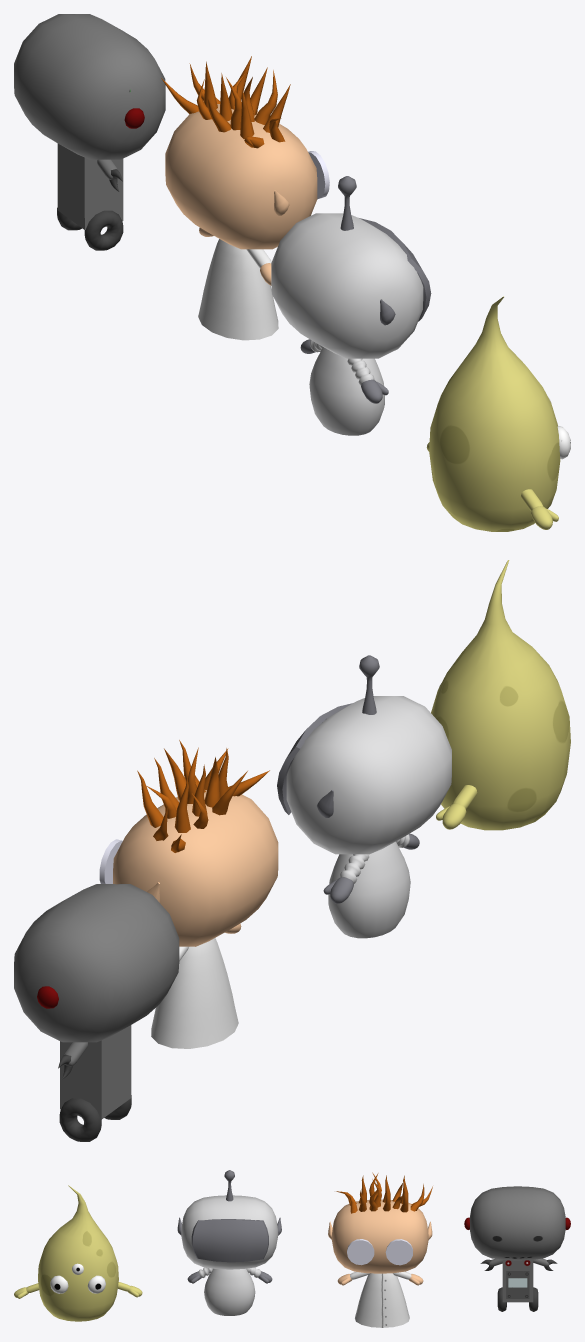
File: characters try 2.FBX
3 views of the same model, one above another, from view 1: azimuth 30°, elevation 25°; view 2: azimuth 150°, elevation 25°; view 3: azimuth 270°, elevation 25° (orthographic). The views are drawn at different scales.
Parts seen in each view (by area): view 1: Sphere006, Cylinder002, Sphere014, Cylinder020; view 2: Cylinder002, Sphere006, Sphere014, Cylinder020; view 3: Sphere006, Cylinder002, Sphere014, Cylinder020.
Part boxes in pixels (x1,y1,x2,y2): Sphere006: (161, 56, 329, 340); Cylinder002: (271, 176, 431, 435); Sphere014: (14, 14, 165, 250); Cylinder020: (426, 296, 570, 531); Cylinder002: (277, 655, 451, 938); Sphere006: (99, 740, 278, 1048); Sphere014: (14, 884, 179, 1141); Cylinder020: (431, 560, 570, 830); Sphere006: (328, 1172, 432, 1327); Cylinder002: (177, 1170, 281, 1315); Sphere014: (464, 1186, 570, 1311); Cylinder020: (14, 1185, 142, 1321).
Size of the model in its own units: 0.7406 by 4.27 by 1.22.
Materials: 4 (4 with a texture image).
